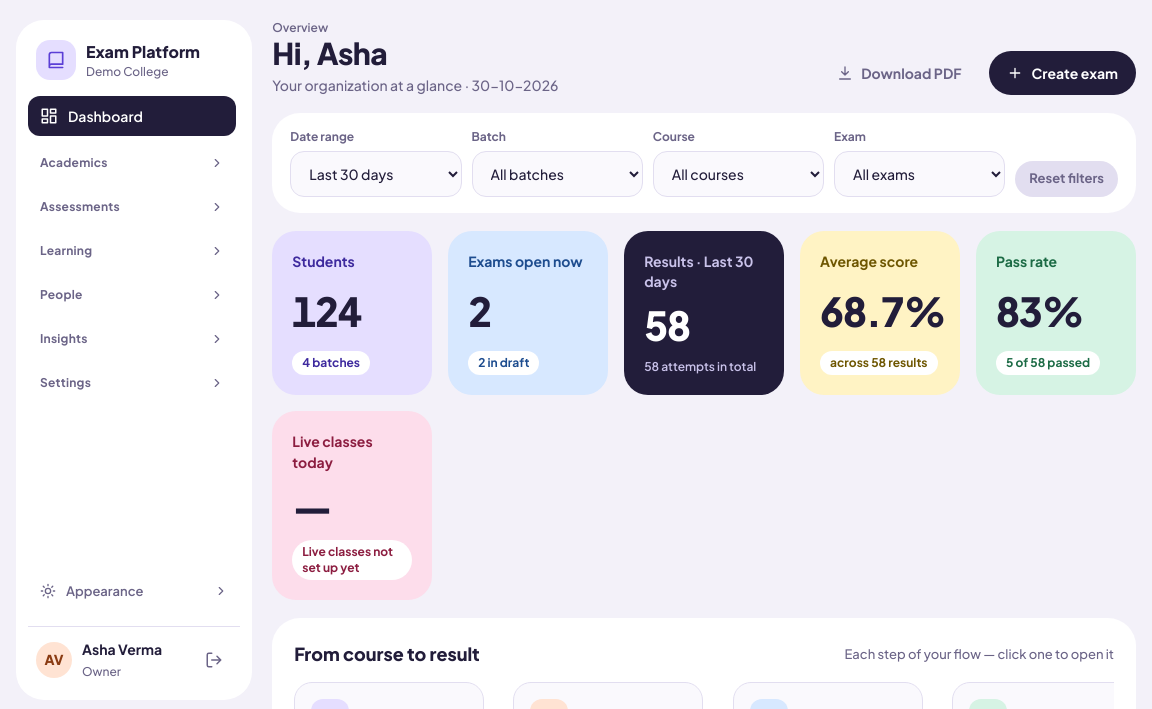
Scenario: insights and dashboard › changing a filter asks the API again and can be reset
This screenshot has width=1152, height=709.
Expected: the text "124" is shown, [292,285,361,336]
Expected: the button with test id "dashboard-filter-reset-btn" is disabled, [1015,161,1118,197]
Step 1. Select "Last 7 days" in the dropdown with test id "dashboard-filter-date-range-select" → x=376, y=174, box [290,151,462,197]
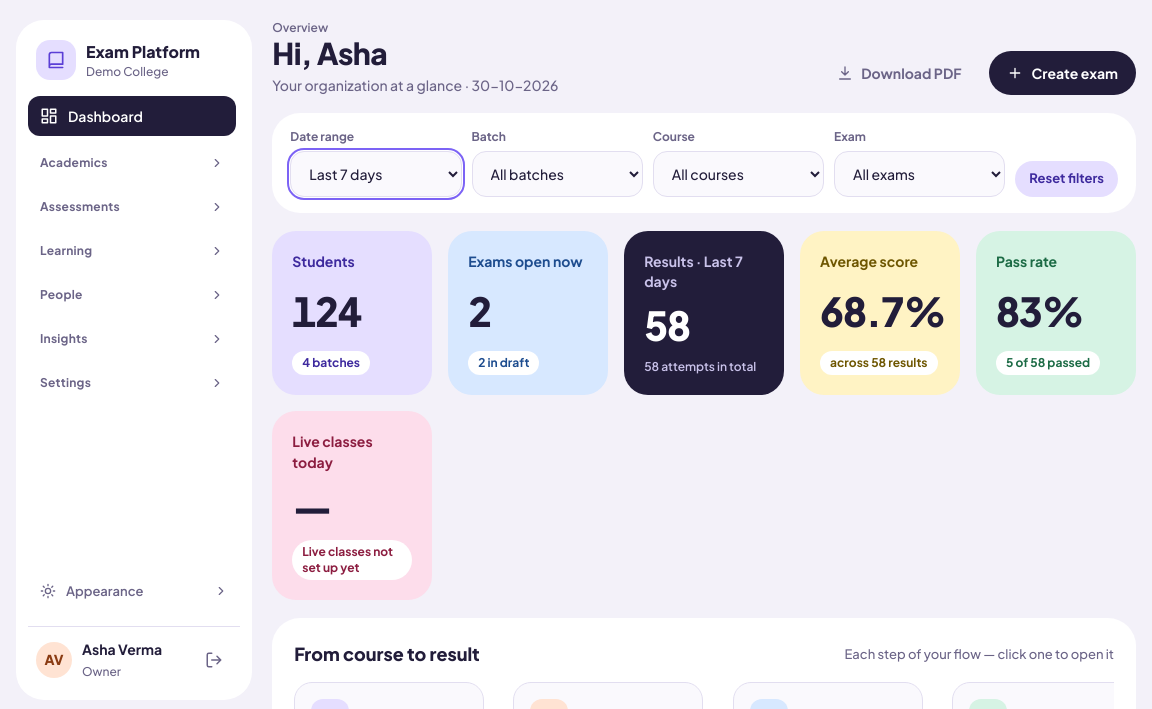
Step 2. Click the button with test id "dashboard-filter-reset-btn" → x=1067, y=179, box [1015,161,1118,197]
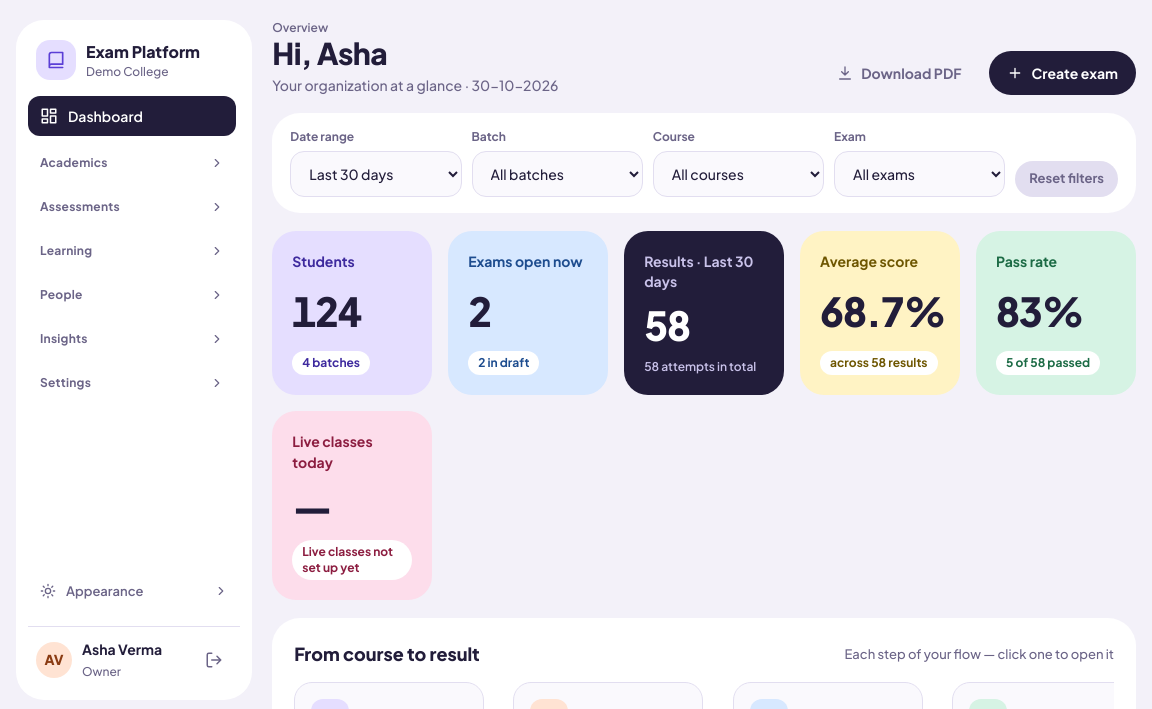
Expected: the button with test id "dashboard-filter-reset-btn" is disabled, [1015,161,1118,197]
